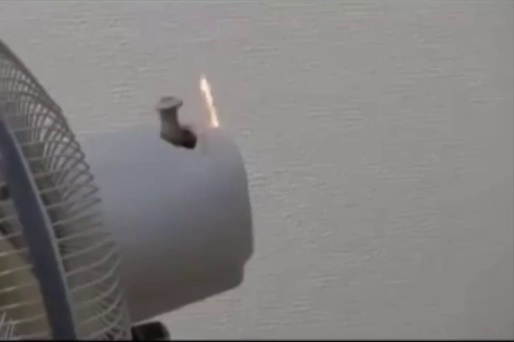fire: (199, 75, 222, 126)
